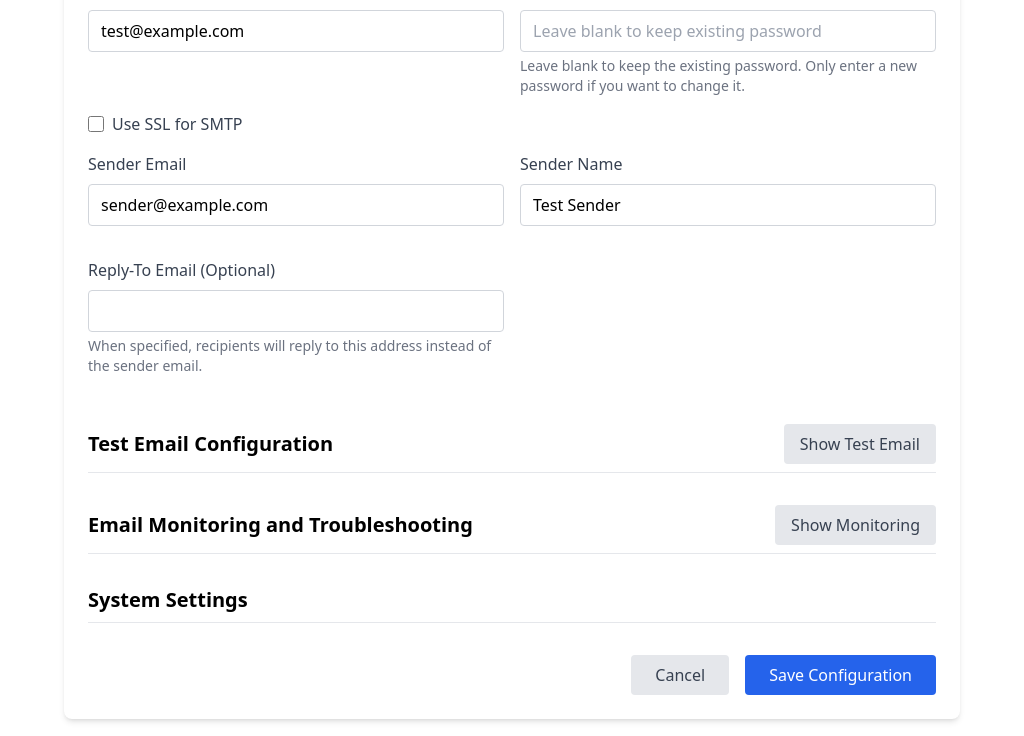
it: Test Email Functionality › SMTP Connection Testing › should handle SMTP connection failure with detailed error info
(page scrolled)
# Expand the Test Email Configuration section (where SMTP Connection Test is now located)
Step 1. Click the button "Show Test Email" → (860, 444), box [784, 424, 936, 464]
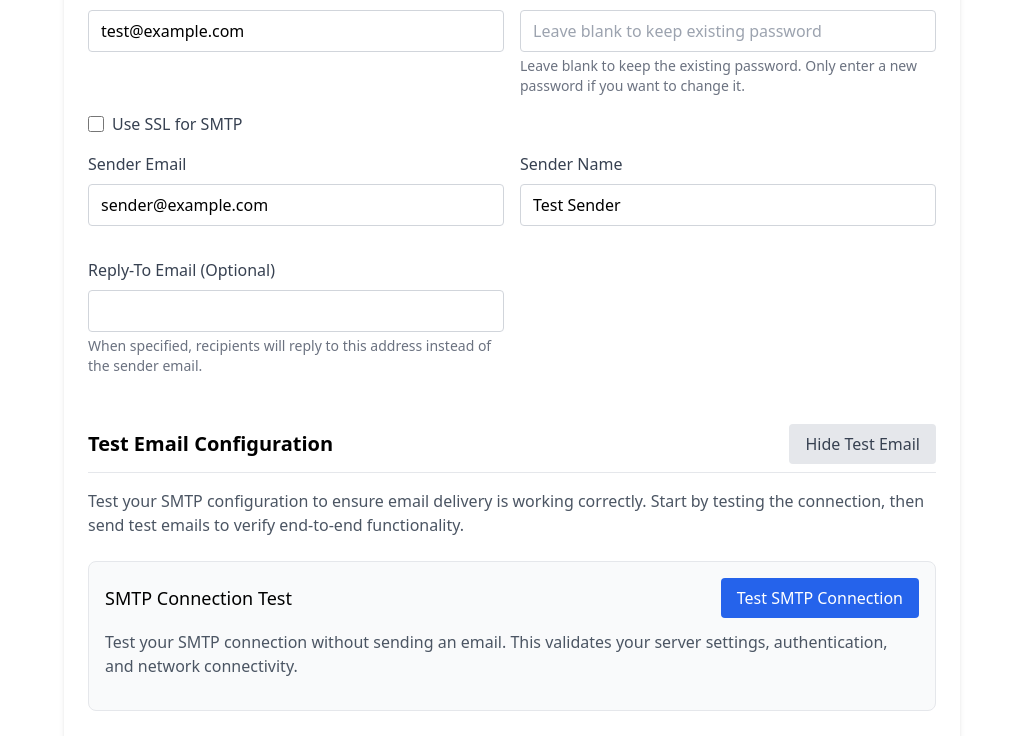
Result: the button "Test SMTP Connection" is shown
# Click test SMTP connection button
Step 2. Click the button "Test SMTP Connection" → (820, 598), box [721, 578, 919, 618]
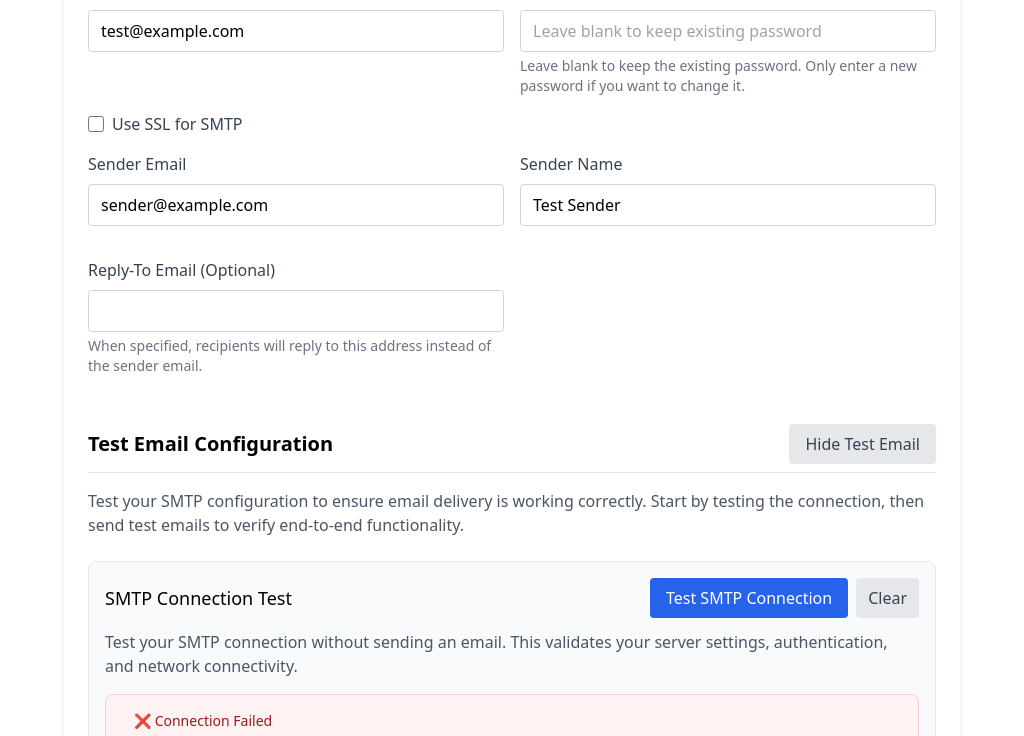
Result: the heading "❌ Connection Failed" is shown at [134, 711, 272, 730]
